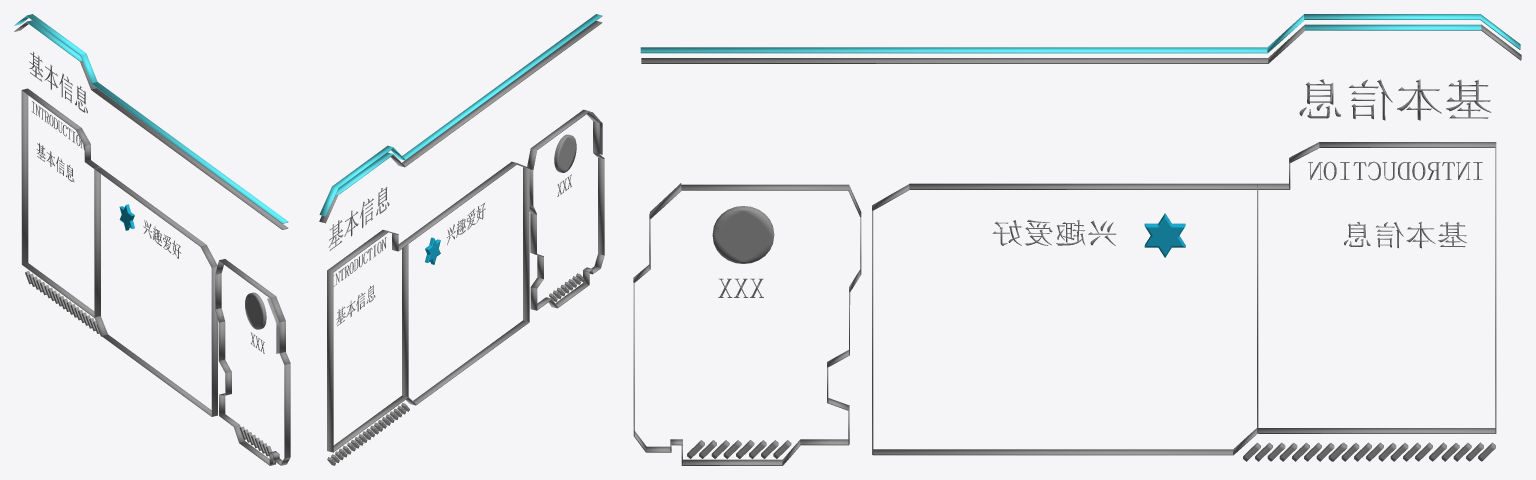
The model's file is info.obj.
3 views of the same model, side by side, from view 1: azimuth 30°, elevation 25°; view 2: azimuth 150°, elevation 25°; view 3: azimuth 270°, elevation 25° (orthographic). The views are drawn at different scales.
Parts seen in each view (by area): view 1: top1_top1, Rectangle048, Rectangle043, Rectangle058, Rectangle055, Rectangle059, Rectangle054, Rectangle076, Circle001, Text011, Rectangle045, Rectangle061 (+5 smaller); view 2: top1_top1, Rectangle043, Rectangle058, Rectangle048, Rectangle059, Rectangle055, Rectangle054, Circle001, Rectangle076, Text011, Rectangle045, Text002 (+5 smaller); view 3: top1_top1, Rectangle058, Rectangle043, Circle001, Rectangle054, Text011, Rectangle041, Rectangle061, Text004, Star001, Rectangle045, Text003 (+1 smaller).
Boxes of the visible parts, x1,y1,x2,y2 form: top1_top1: (14, 14, 288, 223); Rectangle048: (21, 91, 28, 264); Rectangle043: (91, 88, 288, 229); Rectangle058: (22, 263, 212, 416); Rectangle055: (94, 167, 100, 317); Rectangle059: (211, 266, 217, 416); Rectangle054: (85, 160, 206, 246); Rectangle076: (284, 363, 290, 458); Circle001: (245, 292, 266, 329); Text011: (29, 51, 87, 113); Rectangle045: (21, 88, 81, 129); Rectangle061: (219, 259, 275, 297); top1_top1: (319, 14, 602, 216); Rectangle043: (402, 21, 602, 166); Rectangle058: (328, 320, 529, 452); Rectangle048: (327, 270, 333, 452); Rectangle059: (523, 167, 529, 321); Rectangle055: (402, 241, 408, 396); Rectangle054: (398, 161, 517, 251); Circle001: (554, 134, 576, 172); Rectangle076: (598, 157, 604, 255); Text011: (328, 186, 389, 250); Rectangle045: (327, 230, 388, 272); Text002: (333, 237, 386, 286); top1_top1: (640, 14, 1520, 53); Rectangle058: (873, 428, 1496, 455); Rectangle043: (641, 58, 1268, 63); Circle001: (712, 206, 774, 263); Rectangle054: (909, 183, 1289, 189); Text011: (1299, 79, 1491, 120); Rectangle041: (1304, 24, 1481, 30); Rectangle061: (681, 184, 848, 190); Text004: (992, 219, 1115, 245); Star001: (1144, 213, 1185, 257); Rectangle045: (1319, 142, 1496, 147); Text003: (1344, 221, 1466, 248).
Size of the model in its own units: 3 by 84.37 by 152.
